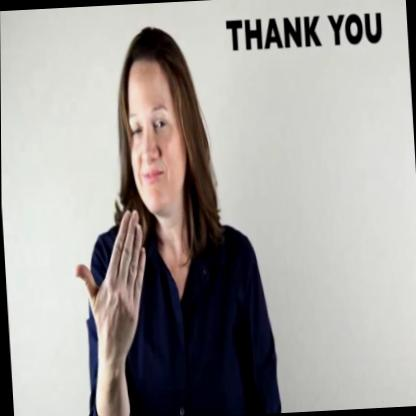ThankYou: (56, 18, 252, 360)
